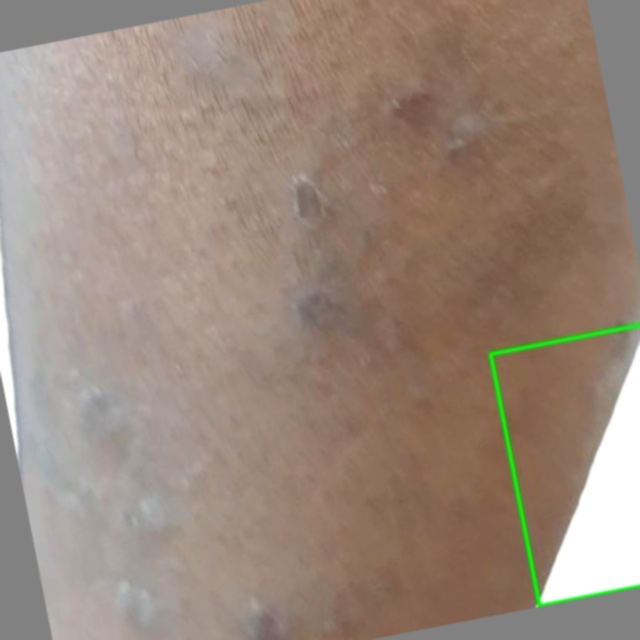Atopic Dermatitis: (490, 325, 639, 605)
